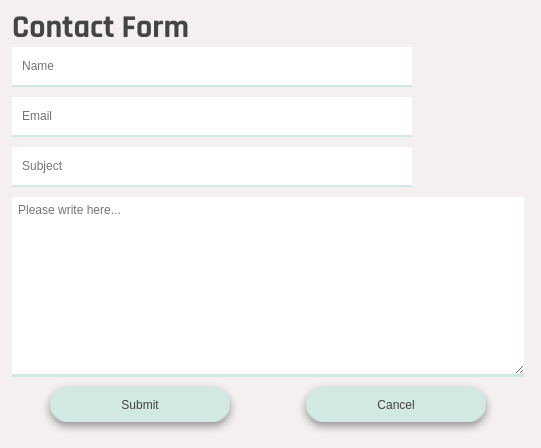
Scenario: ContactPage › 3--Contact form fields are typed but canceled not to submit
The image size is (541, 448).
Type "Alice" into the field with placeholder "Name".
click(212, 67); type("Alice")  # box 12,47 -> 412,87
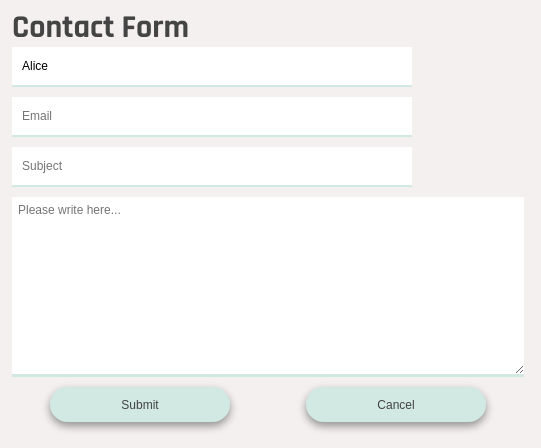
Type "alice@test.com" into the field with placeholder "Email".
click(212, 117); type("alice@test.com")  # box 12,97 -> 412,137
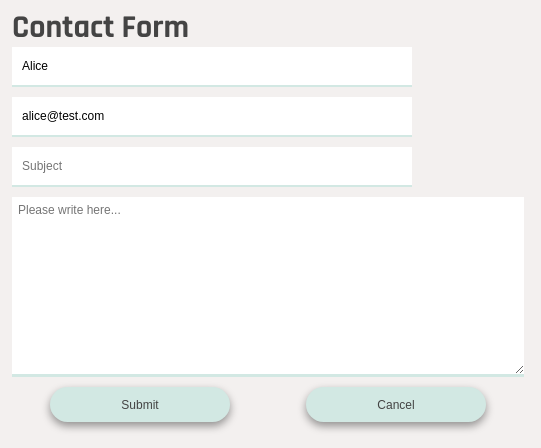
Type "Subject Test" into the field with placeholder "Subject".
click(212, 167); type("Subject Test")  # box 12,147 -> 412,187
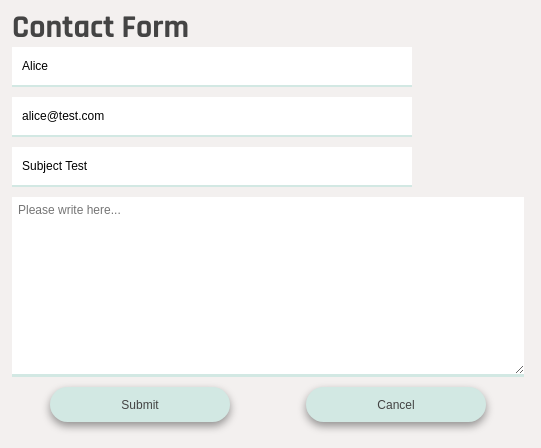
Type "Test message" into the text box with placeholder "Please write here...".
click(268, 287); type("Test message")  # box 12,197 -> 524,377
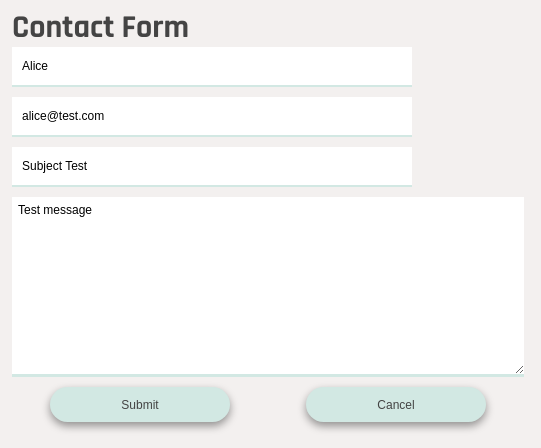
Click the button "Cancel".
click(396, 404)  # box 306,387 -> 486,422
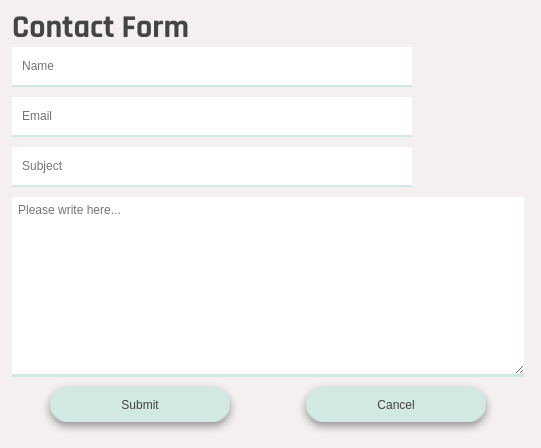
Check: the field with placeholder "Name" is empty, box 12,47 -> 412,87
Check: the field with placeholder "Email" is empty, box 12,97 -> 412,137
Check: the field with placeholder "Subject" is empty, box 12,147 -> 412,187
